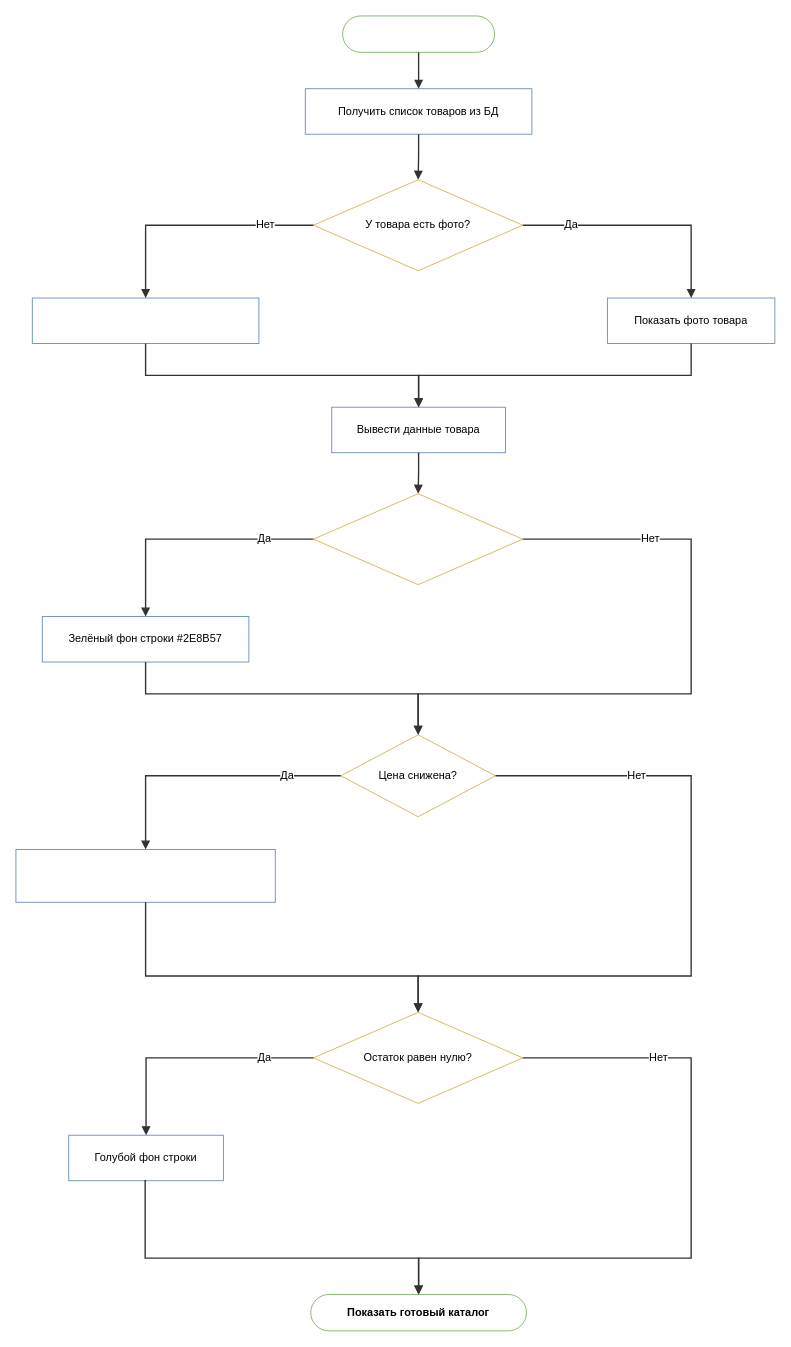
Image size: 791x1347. Some labels were removed from this diagram. Each missing label, with the centre of its shape:
"Открыть каталог" goes at (418,33).
"Показать заглушку picture.png" goes at (145,320).
"Скидка больше 15%?" goes at (418,539).
"Старая цена: красная и зачёркнутая Итоговая цена: чёрная" goes at (145,875).
